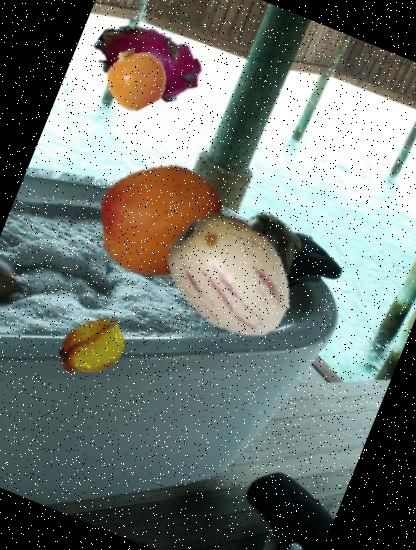Apricot: (78, 138, 243, 303)
Carambula: (44, 298, 140, 394)
Pepino: (142, 184, 320, 362)
Physalis: (95, 37, 176, 118)
Pitahaya: (74, 0, 215, 136)
